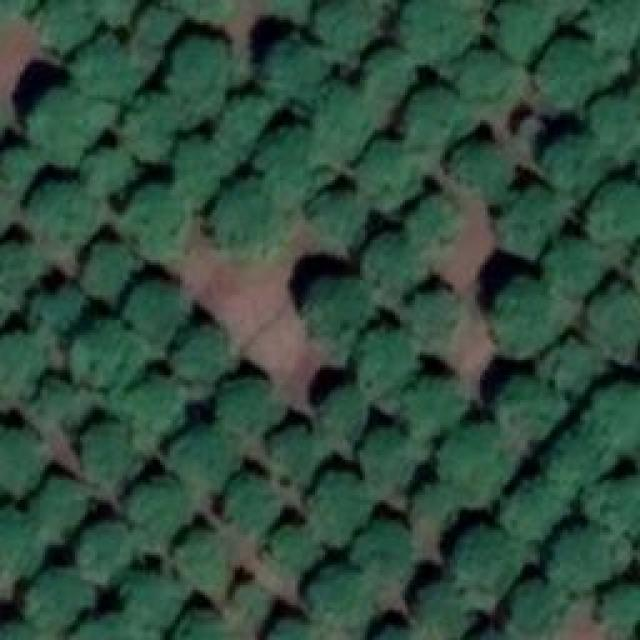Tree: (208, 183, 289, 260), (160, 30, 240, 107), (443, 423, 520, 497), (255, 118, 329, 192), (70, 34, 150, 102), (540, 40, 621, 107), (490, 275, 564, 348), (393, 0, 479, 59), (310, 83, 377, 157), (25, 183, 96, 251), (302, 278, 374, 344), (168, 318, 238, 384), (400, 85, 468, 152), (450, 522, 515, 592), (165, 425, 233, 491), (125, 475, 192, 541), (125, 193, 195, 256), (497, 190, 568, 252), (580, 173, 640, 245), (30, 90, 96, 155), (405, 190, 477, 249), (115, 376, 188, 434), (80, 235, 142, 303), (20, 568, 88, 630), (498, 375, 563, 439), (73, 523, 140, 585), (450, 133, 514, 197), (360, 143, 423, 207), (450, 48, 516, 109), (357, 327, 414, 397), (413, 573, 475, 636), (75, 325, 135, 390), (355, 425, 422, 483), (540, 233, 603, 294), (543, 133, 602, 198), (502, 480, 561, 545), (75, 418, 140, 477), (0, 328, 49, 406), (123, 278, 186, 338), (477, 0, 543, 57), (28, 278, 90, 337), (122, 570, 181, 632), (555, 527, 619, 584), (30, 473, 85, 539), (400, 380, 468, 433), (173, 533, 233, 593), (312, 475, 369, 538), (360, 235, 424, 291), (30, 370, 89, 430), (218, 475, 280, 532), (260, 44, 325, 98), (590, 280, 640, 350), (542, 428, 600, 488), (310, 383, 364, 447), (0, 500, 33, 604), (218, 377, 278, 434), (588, 381, 639, 448), (305, 190, 372, 241), (355, 44, 418, 98), (118, 98, 182, 151), (508, 578, 568, 633), (577, 0, 640, 52), (315, 0, 379, 51), (590, 98, 640, 163), (400, 282, 457, 339), (588, 473, 640, 535), (0, 424, 40, 504), (310, 565, 362, 624), (225, 93, 276, 153), (358, 520, 413, 575), (168, 148, 224, 202), (267, 520, 325, 571), (77, 148, 136, 198), (0, 142, 41, 212), (548, 331, 598, 388), (403, 477, 452, 534), (37, 3, 94, 51), (598, 580, 640, 639), (0, 240, 34, 311), (225, 573, 272, 622), (175, 602, 236, 639), (130, 3, 180, 47), (267, 428, 313, 475), (70, 620, 153, 640), (258, 610, 313, 640), (365, 617, 420, 640)
